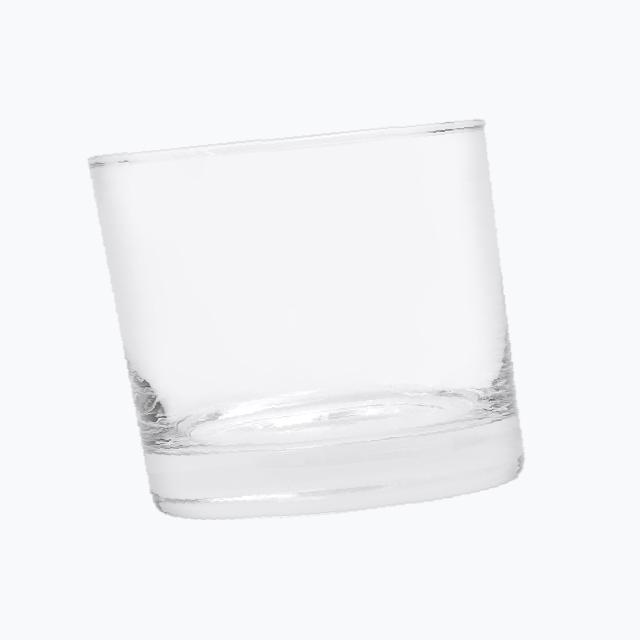recyclable: (57, 77, 561, 554)
